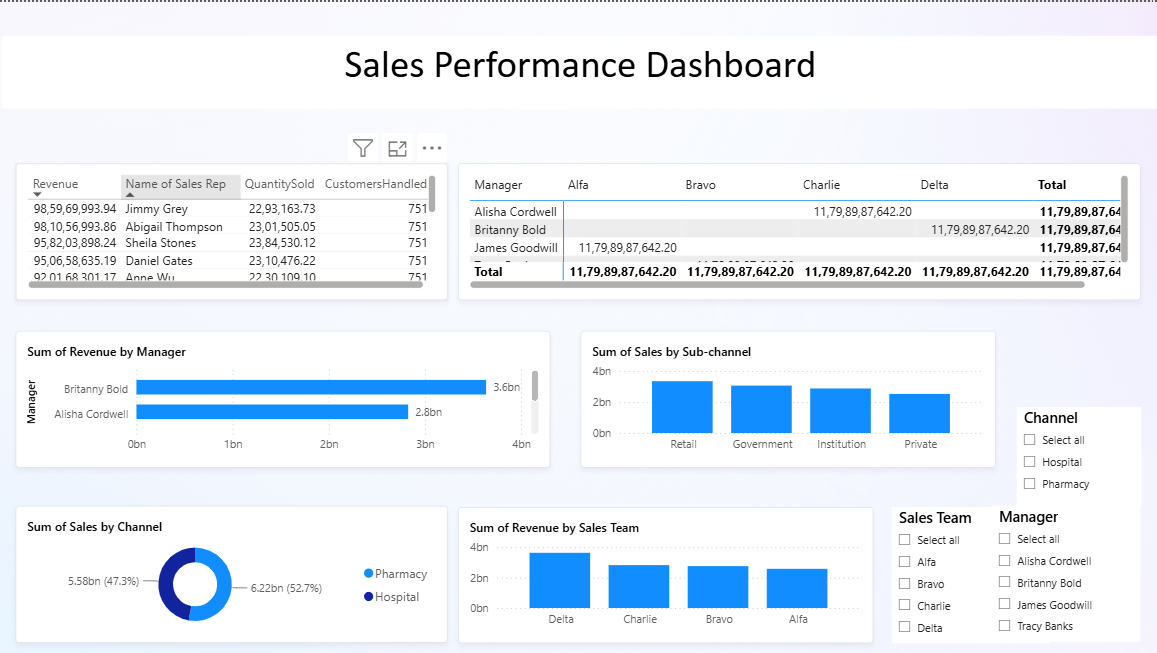

Layout of this report page (visuals, bound fields, positions):
{"tool":"powerbi","page":{"name":"Page 3","canvas":[1280,720],"ordinal":2},"visuals":[{"type":"textbox","box":[4.2,36.6,1270.4,80.3],"z":0},{"type":"clusteredColumnChart","fields":{"Category":["vw_sales_rep_performance.Sales Team"],"Y":["Sum(vw_sales_rep_performance.Revenue)"]},"box":[505.6,554.9,456.3,149.3],"z":1},{"type":"clusteredBarChart","fields":{"Category":["vw_sales_rep_performance.Manager"],"Y":["Sum(vw_sales_rep_performance.Revenue)"]},"box":[19.7,360.6,587.3,150.7],"z":2},{"type":"donutChart","fields":{"Category":["pharma_sales.Channel"],"Y":["Sum(pharma_sales.Sales)"]},"box":[19.7,553.5,474.6,150.7],"z":3},{"type":"clusteredColumnChart","fields":{"Category":["pharma_sales.Sub-channel"],"Y":["Sum(pharma_sales.Sales)"]},"box":[639.4,360.6,456.3,150.7],"z":4},{"type":"pivotTable","fields":{"Rows":["pharma_sales.Manager"],"Columns":["pharma_sales.Sales Team"],"Values":["Sum(vw_customer_performance.Revenue)"]},"box":[505.6,177.5,749.3,150.7],"z":5},{"type":"tableEx","fields":{"Values":["vw_sales_rep_performance.Revenue","vw_sales_rep_performance.Name of Sales Rep","vw_sales_rep_performance.QuantitySold","vw_sales_rep_performance.CustomersHandled"]},"box":[19.7,177.5,474.6,150.7],"z":6},{"type":"slicer","fields":{"Values":["vw_sales_rep_performance.Sales Team"]},"box":[981.7,554.9,173.2,149.3],"z":7},{"type":"slicer","fields":{"Values":["vw_sales_rep_performance.Manager"]},"box":[1091.5,553.5,163.4,149.3],"z":8},{"type":"slicer","fields":{"Values":["pharma_sales.Channel"]},"box":[1118.3,445.1,136.6,109.9],"z":9}]}

Visuals, with their boxes in screenshot pixels (x1, y1, x2, y2), scaled from the page's 1280x720 canvas onto the 1157x653 screenshot:
textbox: bbox=[4, 33, 1152, 106]
clusteredColumnChart - vw_sales_rep_performance.Sales Team x Sum(vw_sales_rep_performance.Revenue): bbox=[457, 503, 869, 639]
clusteredBarChart - vw_sales_rep_performance.Manager x Sum(vw_sales_rep_performance.Revenue): bbox=[18, 327, 549, 464]
donutChart - pharma_sales.Channel x Sum(pharma_sales.Sales): bbox=[18, 502, 447, 639]
clusteredColumnChart - pharma_sales.Sub-channel x Sum(pharma_sales.Sales): bbox=[578, 327, 990, 464]
pivotTable - pharma_sales.Manager x pharma_sales.Sales Team: bbox=[457, 161, 1134, 298]
tableEx - vw_sales_rep_performance.Revenue x vw_sales_rep_performance.Name of Sales Rep: bbox=[18, 161, 447, 298]
slicer - vw_sales_rep_performance.Sales Team: bbox=[887, 503, 1044, 639]
slicer - vw_sales_rep_performance.Manager: bbox=[987, 502, 1134, 637]
slicer - pharma_sales.Channel: bbox=[1011, 404, 1134, 503]
